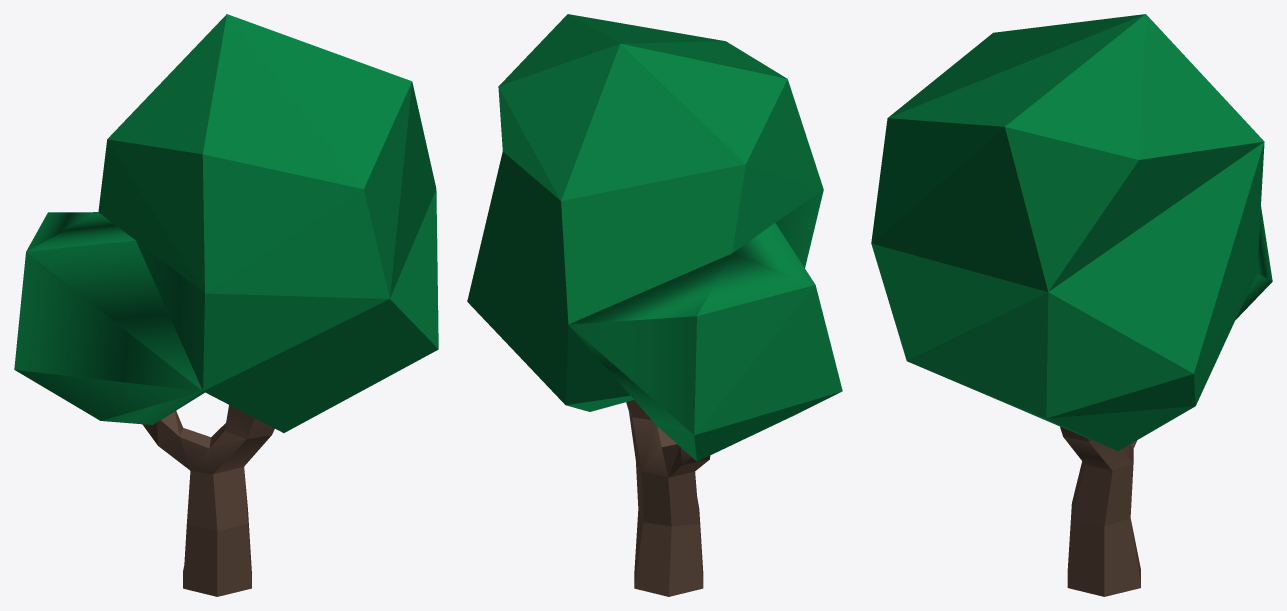
Rendered from DeciduousTree_02.fbx.
3 views of the same model, side by side, from view 1: azimuth 30°, elevation 25°; view 2: azimuth 150°, elevation 25°; view 3: azimuth 270°, elevation 25° (orthographic). The views are drawn at different scales.
Parts seen in each view (by area): view 1: Leaves, Branch; view 2: Leaves, Branch; view 3: Leaves, Branch.
Boxes of the visible parts, box(x1,y1,x2,y2) form: Leaves: box(14, 14, 438, 432); Branch: box(142, 405, 274, 596); Leaves: box(467, 14, 842, 461); Branch: box(626, 400, 710, 596); Leaves: box(871, 14, 1272, 451); Branch: box(1060, 426, 1140, 596).
Bounding box in the file's own units: 3.12 × 4.26 × 2.67.
